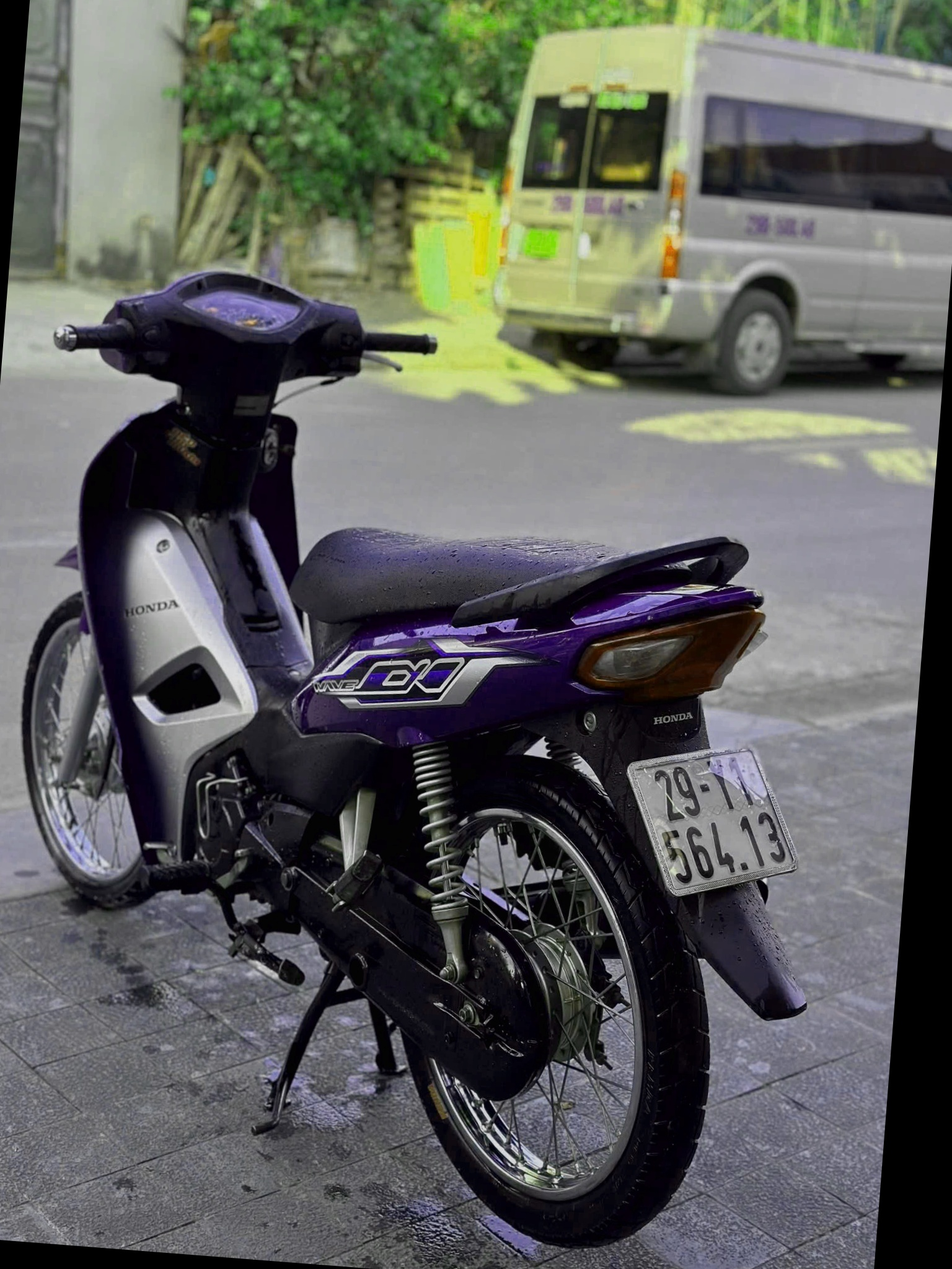Bien-so: (679, 759, 877, 913)
